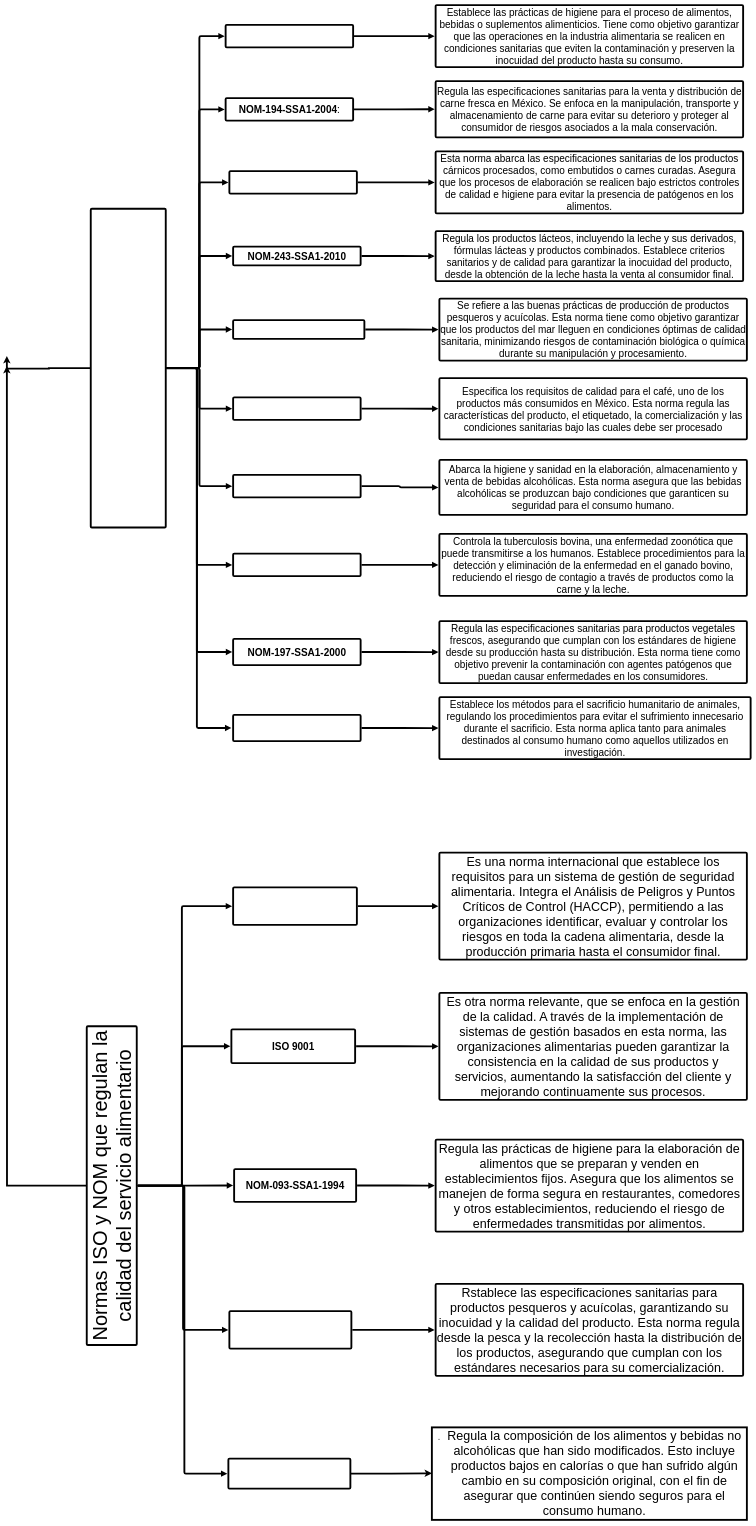
This 756x1526 diagram has some shape labels left out. Here are the shapes that lost their labels. From the top down, the box of each, then its label:
(225, 24, 354, 48): NOM-251-SSA1-2009
(228, 170, 358, 194): NOM-213-SSA1-2002
(232, 319, 365, 340): NOM-092-ZOO-1995
(90, 208, 167, 528): Normatividad higiénico-sanitaria (NOM y ZOO)
(232, 396, 361, 421): NOM-155-SCFI-2012
(232, 474, 361, 498): NOM-026-SSA1-1993
(232, 553, 361, 577): NOM-041-ZOO-1995
(232, 714, 361, 742): NOM-033-SAG/ZOO-2014
(232, 886, 358, 926): ISO 22000
(228, 1310, 352, 1349): NOM-242-SSA1-2009
(227, 1458, 351, 1489): NOM-086-SSA1-1994
